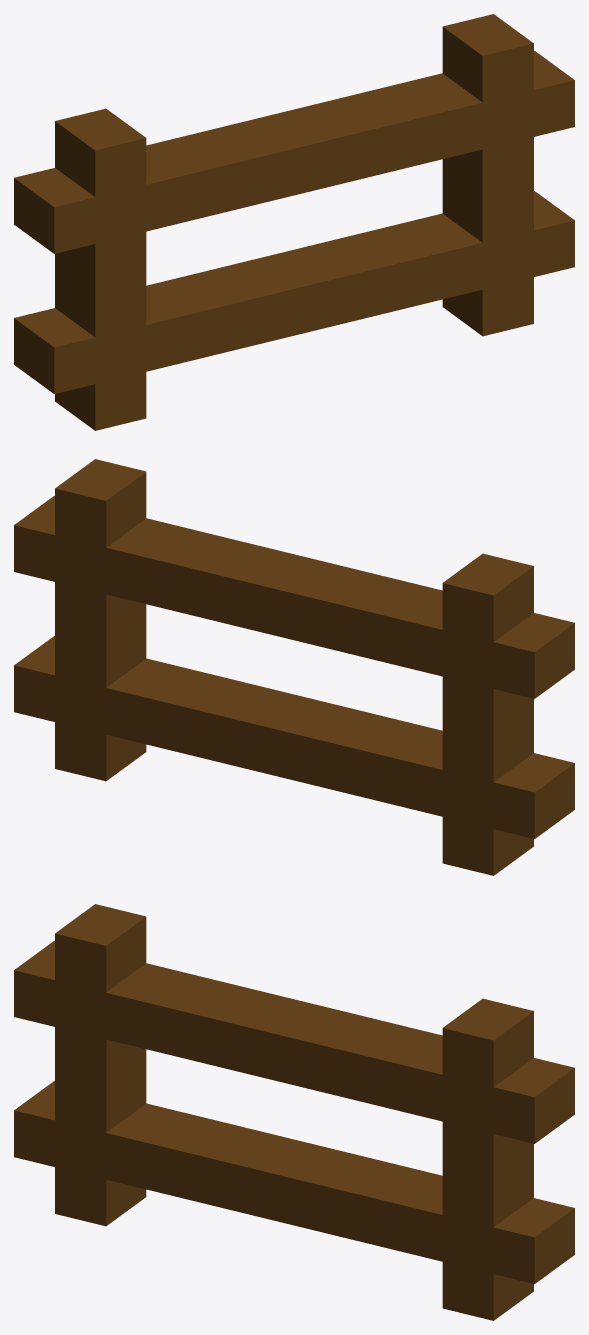
Rendered from Fence.fbx.
The picture shows the model from 3 angles, top to bottom: view 1: azimuth 30°, elevation 25°; view 2: azimuth 150°, elevation 25°; view 3: azimuth 330°, elevation 25°; orthographic projection.
Parts seen in each view (by area): view 1: Cube; view 2: Cube; view 3: Cube.
Part boxes in pixels (<box>): Cube: <box>14,14,574,430</box>; Cube: <box>14,459,574,875</box>; Cube: <box>14,904,574,1320</box>.
Bounding box in the file's own units: 0.7469 × 0.3844 × 0.1001.
